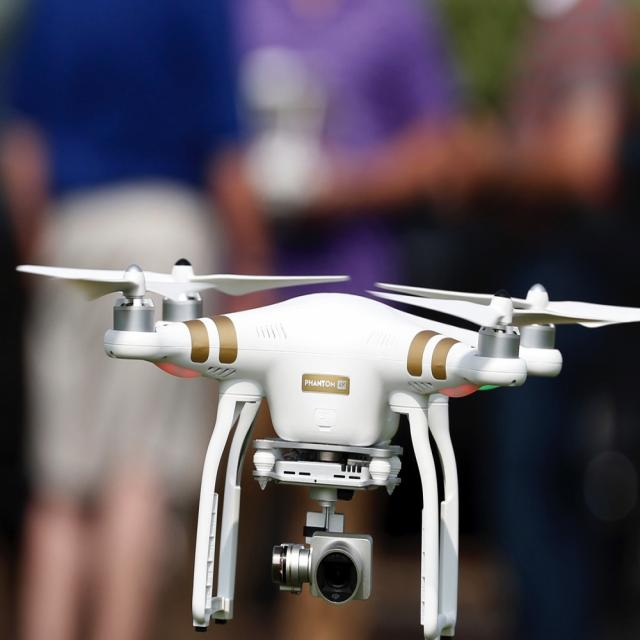drone: (42, 181, 640, 640)
